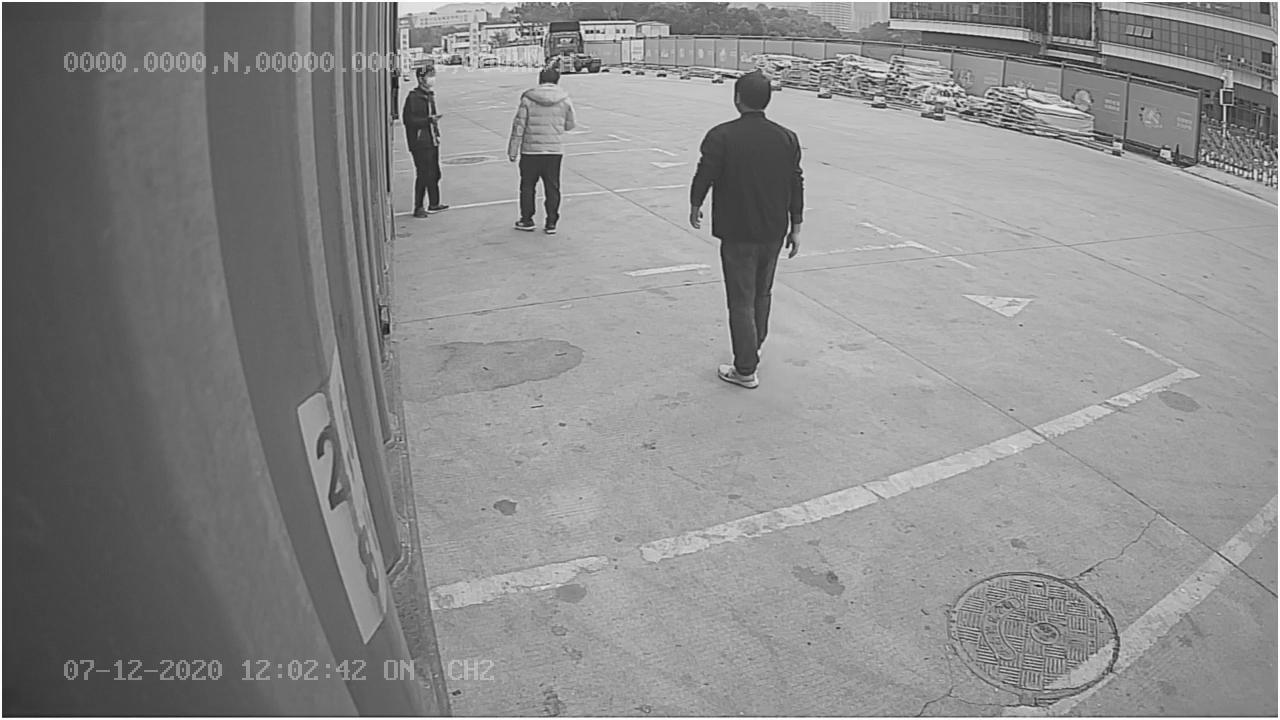person: (684, 55, 810, 393)
